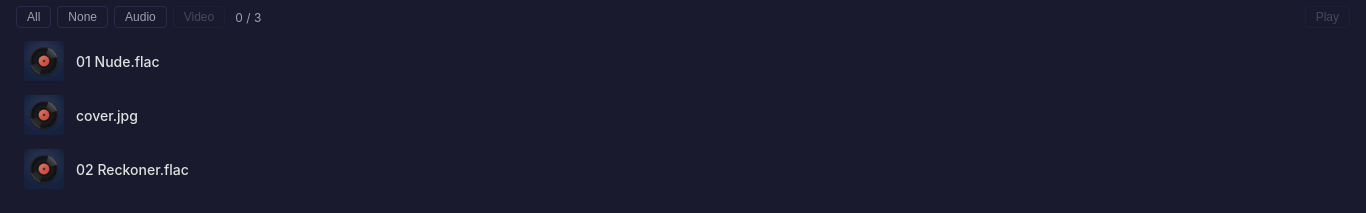
track-row-list selection presets › selects exactly the preset's rows
Expected: the text "0 / 3" is shown, [235,10,261,24]
Click the button "Audio" at (140, 17), box [114,6,167,28]
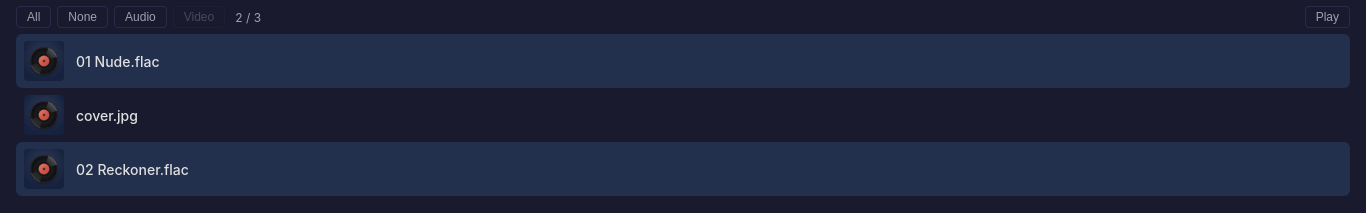
Now the text "2 / 3" is shown, box [235,10,261,24]
